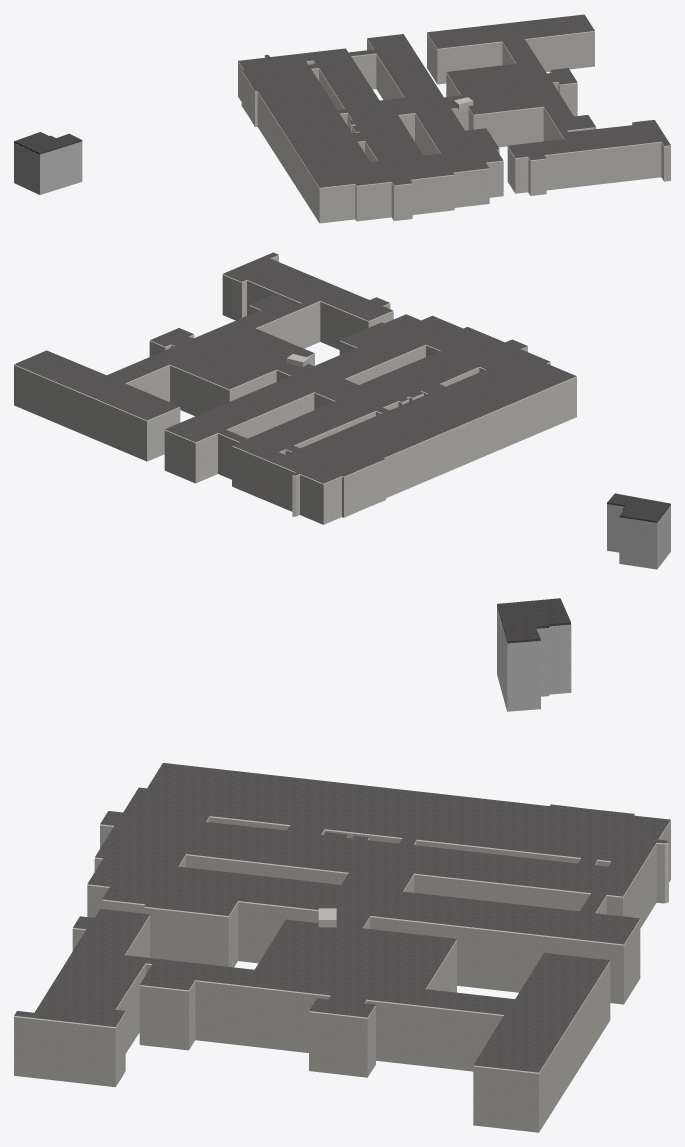
The picture shows the model from 3 angles, top to bottom: view 1: azimuth 30°, elevation 25°; view 2: azimuth 150°, elevation 25°; view 3: azimuth 270°, elevation 25°; orthographic projection. The views are drawn at different scales.
Visible parts, largest first — view 1: lmbase_7345816_roof, lmbase_7345816, lmbase_501410388, lmbase_501410388_roof; view 2: lmbase_7345816_roof, lmbase_7345816, lmbase_501410388, lmbase_501410388_roof; view 3: lmbase_7345816_roof, lmbase_7345816, lmbase_501410388, lmbase_501410388_roof.
Boxes of the visible parts, box(x1,y1,x2,y2) form: lmbase_7345816_roof: box(238, 14, 670, 187); lmbase_7345816: box(238, 31, 670, 223); lmbase_501410388: box(14, 141, 82, 194); lmbase_501410388_roof: box(14, 132, 82, 154); lmbase_7345816_roof: box(14, 252, 576, 483); lmbase_7345816: box(14, 255, 576, 524); lmbase_501410388: box(607, 504, 670, 569); lmbase_501410388_roof: box(607, 493, 670, 522); lmbase_7345816_roof: box(14, 763, 670, 1072); lmbase_7345816: box(14, 815, 670, 1132); lmbase_501410388: box(497, 606, 571, 711); lmbase_501410388_roof: box(497, 598, 570, 643).
Bounding box in the file's own units: 257 × 18.15 × 154.
4 materials, 4 textured.
